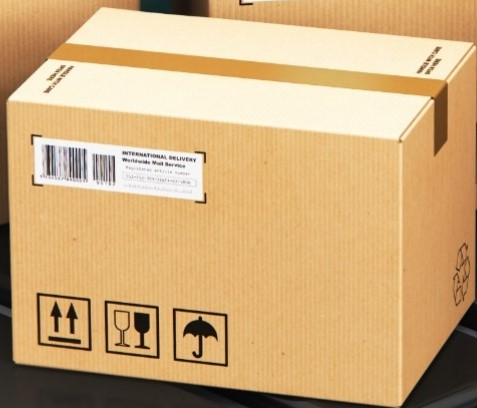stock: (8, 9, 477, 407)
